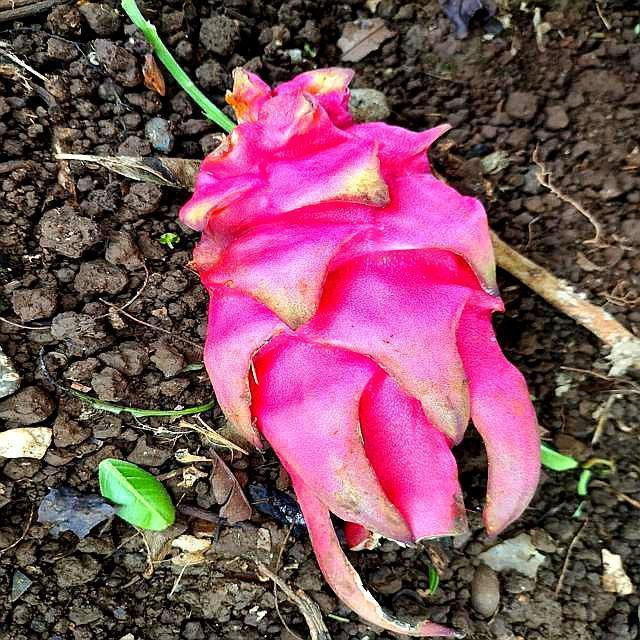Biodegradable: (183, 53, 549, 547)
